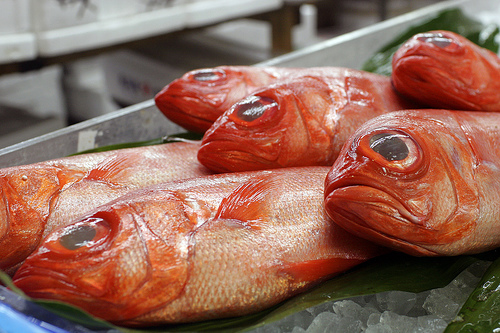fish: (10, 165, 379, 327), (322, 107, 499, 256), (0, 139, 206, 261), (197, 65, 403, 169), (153, 63, 297, 136), (386, 27, 499, 112)
